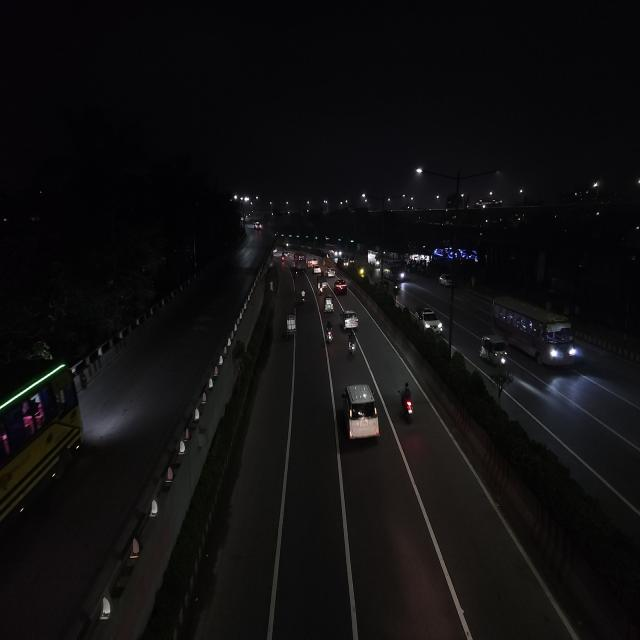bus: (0, 353, 84, 533), (489, 296, 579, 370), (378, 253, 406, 282), (295, 254, 306, 270)
car: (338, 380, 382, 452), (415, 304, 444, 336), (340, 308, 360, 330), (438, 272, 455, 289), (333, 278, 348, 294), (326, 266, 336, 279), (312, 266, 320, 273)
cng: (478, 333, 510, 367), (323, 293, 335, 314), (308, 259, 313, 268)
motorcycle: (396, 379, 418, 427), (346, 330, 358, 359), (325, 322, 335, 346), (299, 288, 307, 304), (318, 286, 324, 296)
pedestrian: (268, 280, 275, 294)
pickup_van: (316, 274, 327, 288)
rickshaw: (285, 321, 298, 342)
